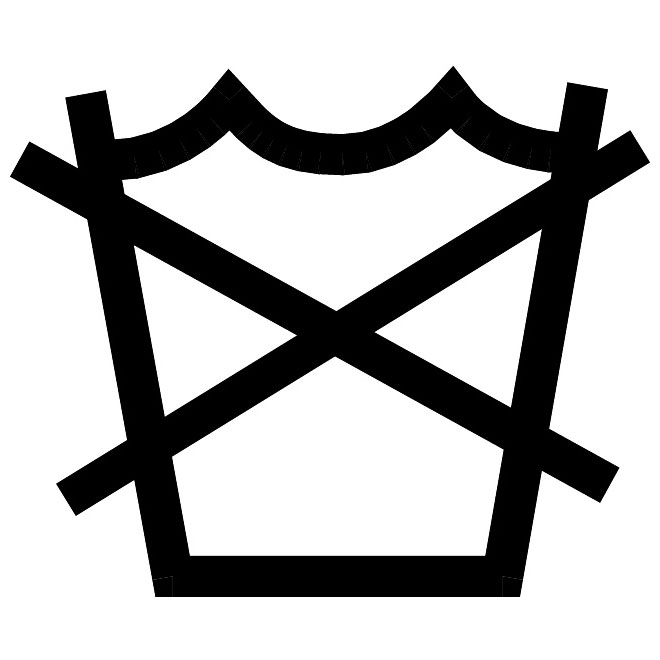do_not_wash: (4, 36, 638, 627)
